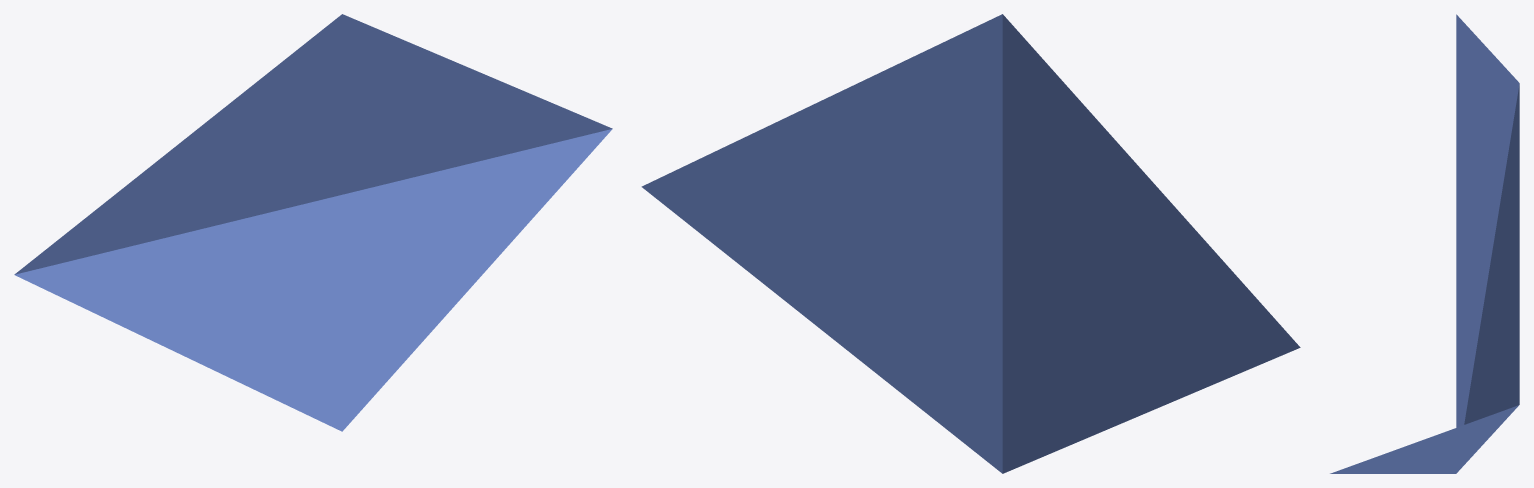
File: high_fidelity_aircraft.gltf
The picture shows the model from 3 angles, left to right: view 1: azimuth 30°, elevation 25°; view 2: azimuth 150°, elevation 25°; view 3: azimuth 270°, elevation 25°; orthographic projection. The views are drawn at different scales.
Visible parts, largest first — view 1: StylizedAircraft; view 2: StylizedAircraft; view 3: StylizedAircraft.
Boxes of the visible parts, x1=… form: StylizedAircraft: x1=14, y1=14, x2=612, y2=431; StylizedAircraft: x1=641, y1=14, x2=1300, y2=473; StylizedAircraft: x1=1330, y1=14, x2=1519, y2=473.
Bounding box in the file's own units: 6 × 4 × 1.5.
